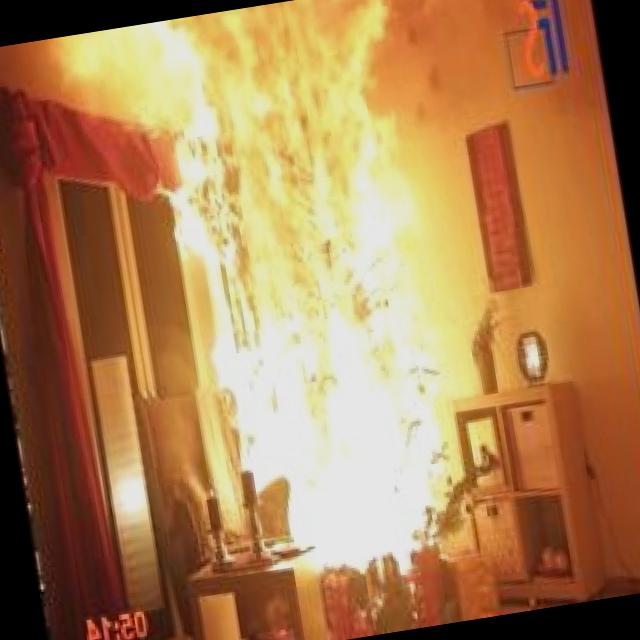fire: (19, 0, 540, 621)
